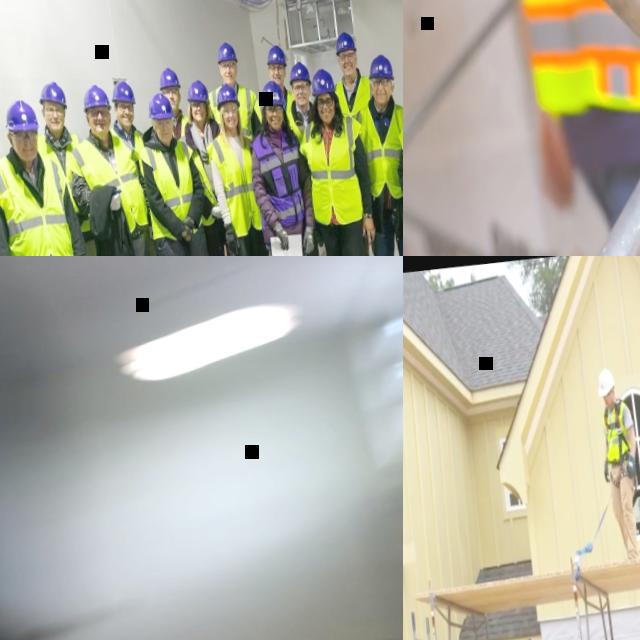Hardhat: (2, 96, 40, 133), (80, 80, 112, 113), (36, 77, 68, 110), (365, 51, 394, 80), (308, 65, 336, 94), (146, 90, 173, 120), (108, 77, 136, 105), (258, 78, 285, 106), (214, 81, 240, 110), (286, 58, 312, 86), (184, 76, 210, 104), (156, 64, 180, 91), (594, 367, 616, 395), (333, 29, 357, 54), (214, 39, 238, 63), (264, 42, 286, 66)
NO-Mask: (15, 144, 38, 162), (371, 86, 392, 102), (90, 119, 110, 135), (318, 104, 335, 122), (340, 59, 357, 76), (157, 126, 174, 142), (266, 113, 282, 129), (294, 90, 310, 106), (221, 69, 238, 84), (223, 113, 240, 128), (118, 113, 134, 128), (46, 117, 62, 131), (192, 107, 206, 123), (270, 70, 285, 84), (168, 96, 181, 110), (604, 396, 612, 407)
Person: (507, 0, 640, 256), (55, 76, 176, 256), (289, 61, 392, 256), (198, 36, 285, 256), (0, 90, 111, 256), (28, 72, 122, 256), (239, 76, 334, 256), (130, 87, 228, 256), (326, 27, 398, 256), (199, 78, 281, 256), (276, 55, 348, 256), (105, 72, 176, 256), (175, 75, 246, 256), (342, 46, 403, 256), (153, 63, 219, 256), (262, 42, 320, 256), (590, 363, 640, 560)
Safety Vest: (516, 0, 640, 125), (62, 128, 149, 241), (296, 109, 374, 228), (0, 142, 79, 256), (137, 135, 205, 245), (35, 126, 99, 237), (204, 129, 262, 240), (248, 126, 309, 228), (348, 92, 403, 202), (177, 128, 220, 228), (206, 78, 262, 141), (110, 121, 148, 177), (600, 397, 632, 461), (333, 73, 376, 119), (250, 85, 295, 126), (285, 96, 318, 140), (170, 113, 191, 139)
